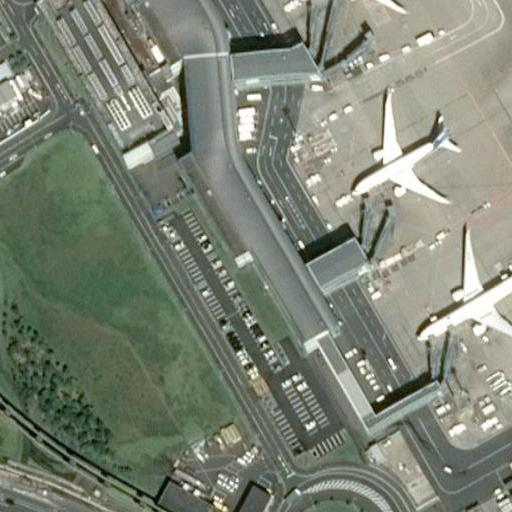Aircraft: (335, 95, 458, 210), (411, 231, 512, 350), (276, 0, 420, 21)
